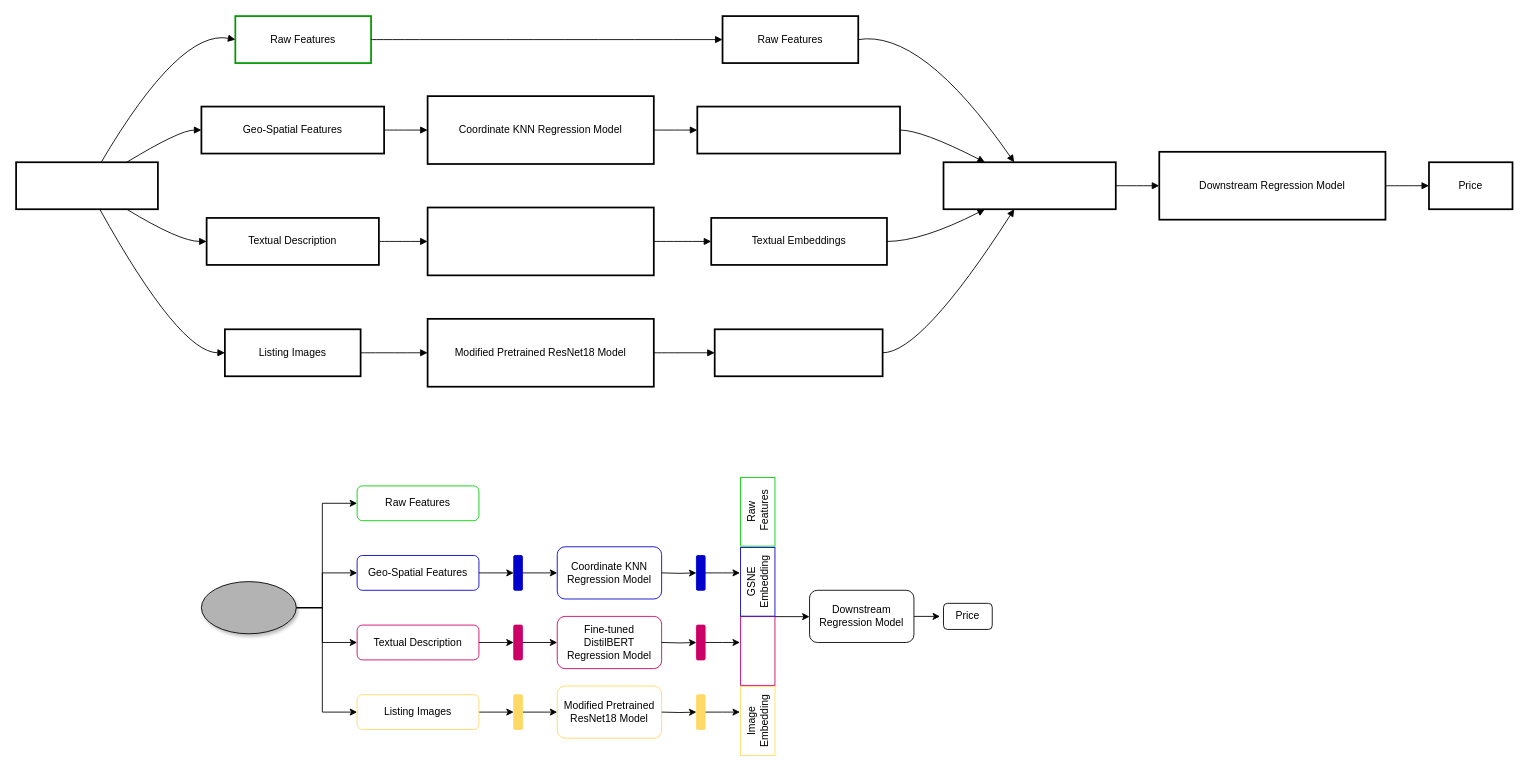
Some shapes in this 1528 by 771 pixel diagram are drawn without their labels. Each missing label, with the centre of its shape:
Combined Features: point (1029, 185)
Geo-Spatial Embeddings: point (798, 129)
House Feature: point (86, 185)
House Features: point (249, 608)
Image Embeddings: point (798, 352)
Pretrained DistillBERT Text Embedding Model: point (540, 241)
Textual Embedding: point (757, 650)
